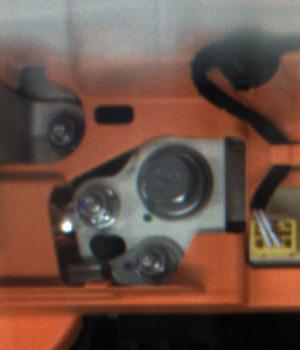nut_b: (131, 147, 206, 218)
